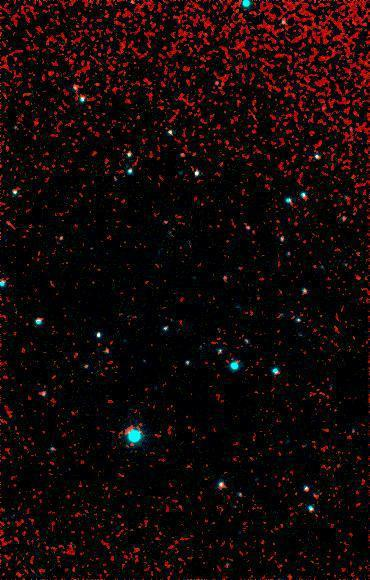star: (81, 71, 111, 101)
